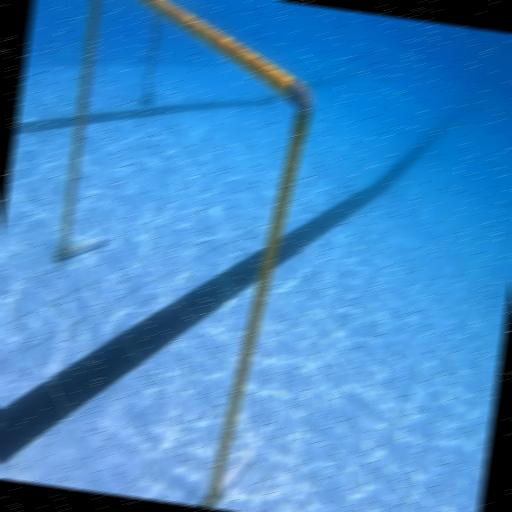gate: (20, 0, 326, 512)
